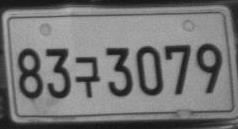0: (135, 45, 163, 96)
3: (105, 46, 133, 97), (45, 47, 71, 99)
7: (164, 44, 191, 95)
8: (17, 47, 43, 99)
9: (195, 42, 222, 94)
구: (75, 55, 100, 98)
